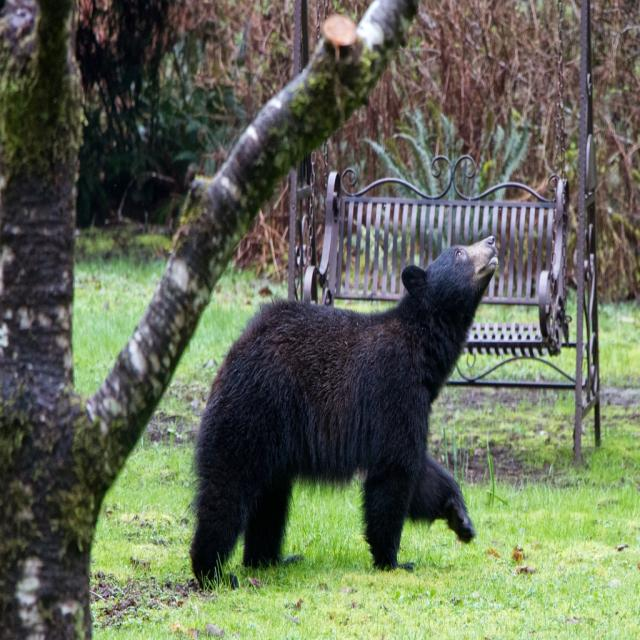Bear: (189, 235, 498, 593)
